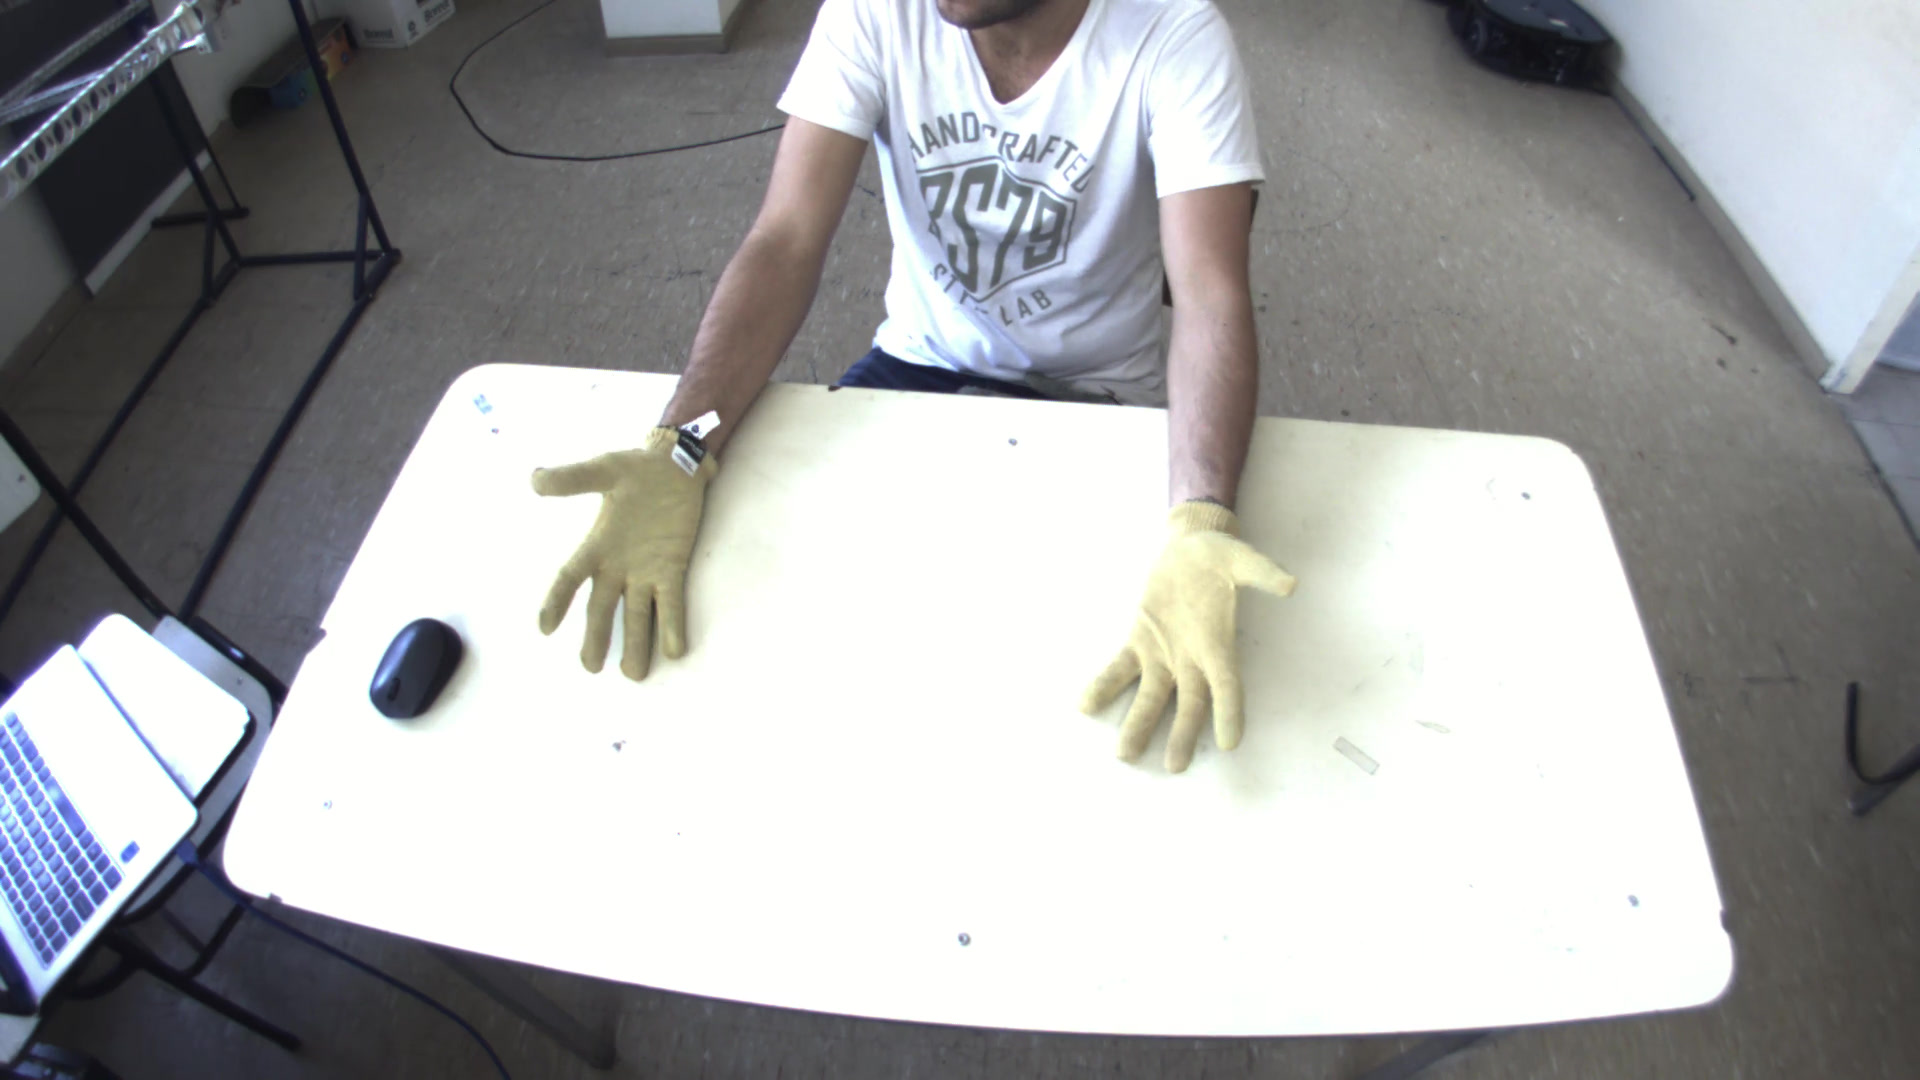hand: (1072, 488, 1315, 783), (512, 413, 711, 687)
